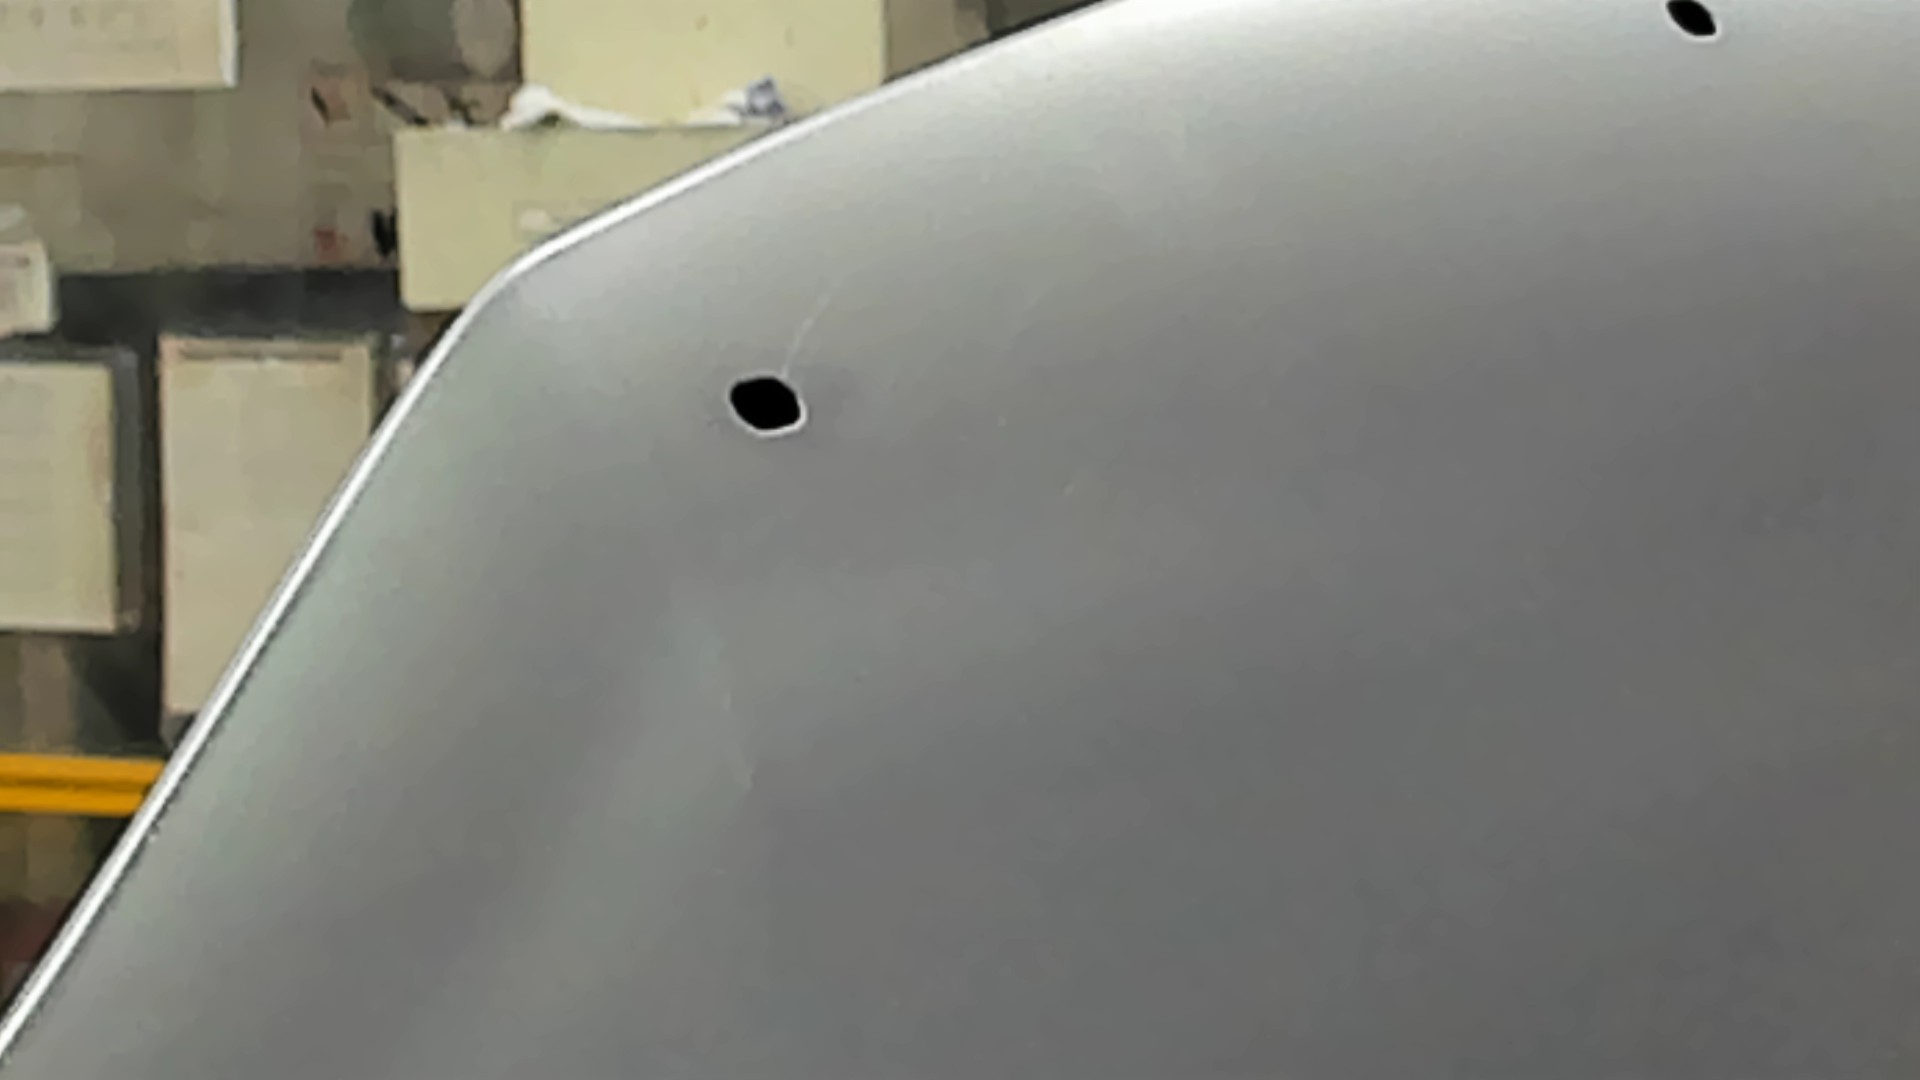amorfo: (717, 371, 814, 444), (1663, 1, 1724, 46)
capo: (903, 137, 1920, 1080)
